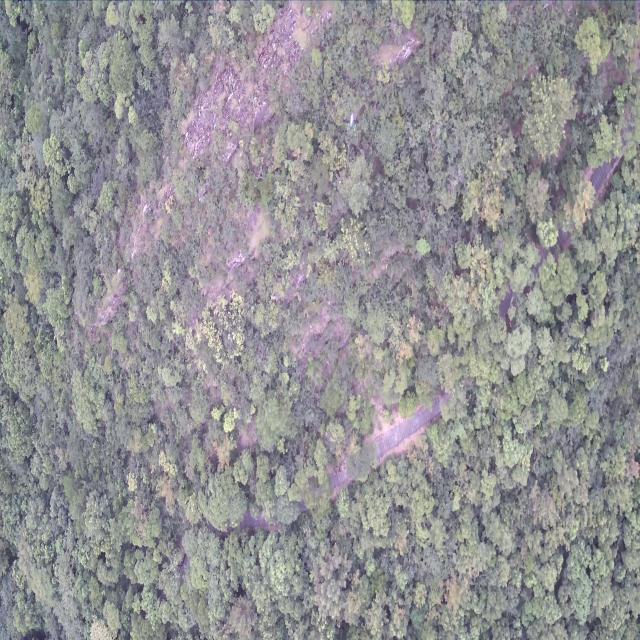UAV: (346, 112, 357, 131)
